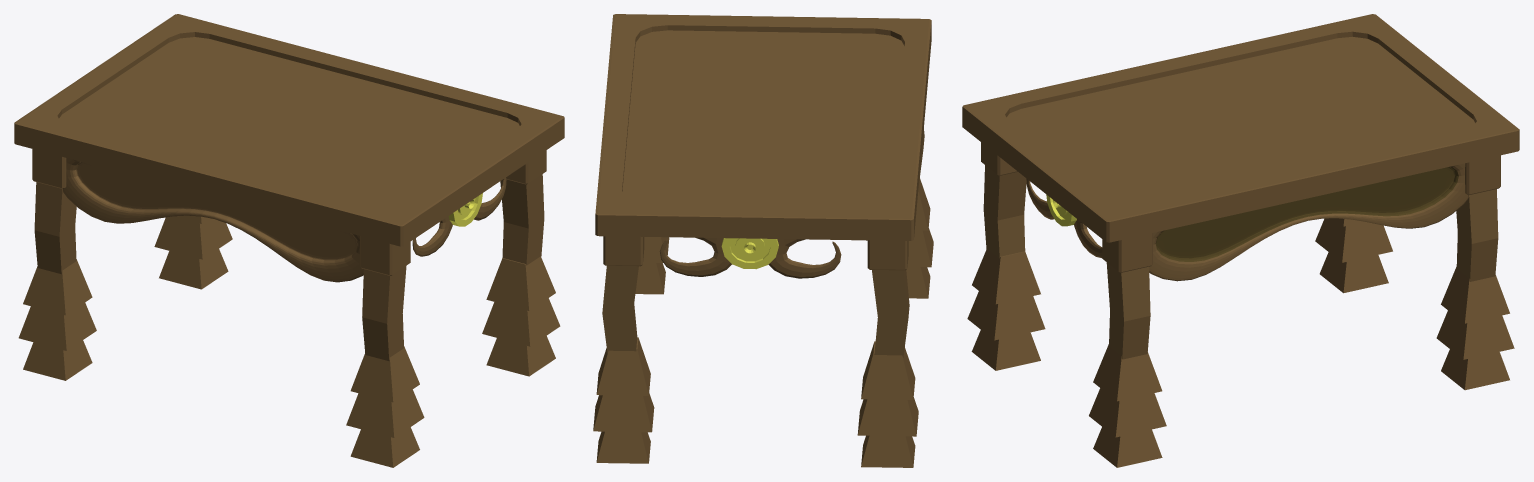
The model's file is Mesa1.fbx.
3 views of the same model, side by side, from view 1: azimuth 30°, elevation 25°; view 2: azimuth 150°, elevation 25°; view 3: azimuth 270°, elevation 25° (orthographic). The views are drawn at different scales.
Visible parts, largest first — view 1: Cube.007; view 2: Cube.007; view 3: Cube.007.
Boxes of the visible parts, bbox=[...] form: Cube.007: bbox=[14, 14, 564, 467]; Cube.007: bbox=[593, 14, 933, 467]; Cube.007: bbox=[962, 14, 1519, 467].
Size of the model in its own units: 1.9 by 1.05 by 2.14.
